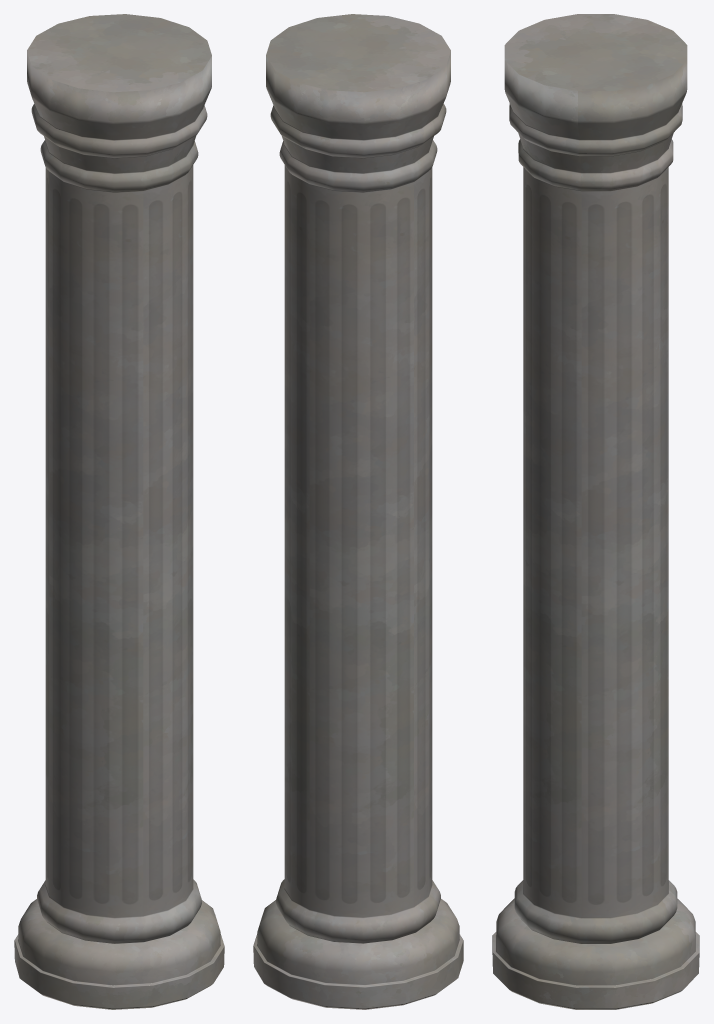
The model's file is SM_Column.fbx.
3 views of the same model, side by side, from view 1: azimuth 30°, elevation 25°; view 2: azimuth 150°, elevation 25°; view 3: azimuth 270°, elevation 25° (orthographic).
Parts seen in each view (by area): view 1: SM_Column_LOD0; view 2: SM_Column_LOD0; view 3: SM_Column_LOD0.
Boxes of the visible parts, x1=… form: SM_Column_LOD0: x1=14, y1=14, x2=224, y2=1009; SM_Column_LOD0: x1=253, y1=14, x2=463, y2=1009; SM_Column_LOD0: x1=492, y1=14, x2=699, y2=1009.
Bounding box in the file's own units: 123 × 123 × 600.
Materials: 1 (1 with a texture image).
